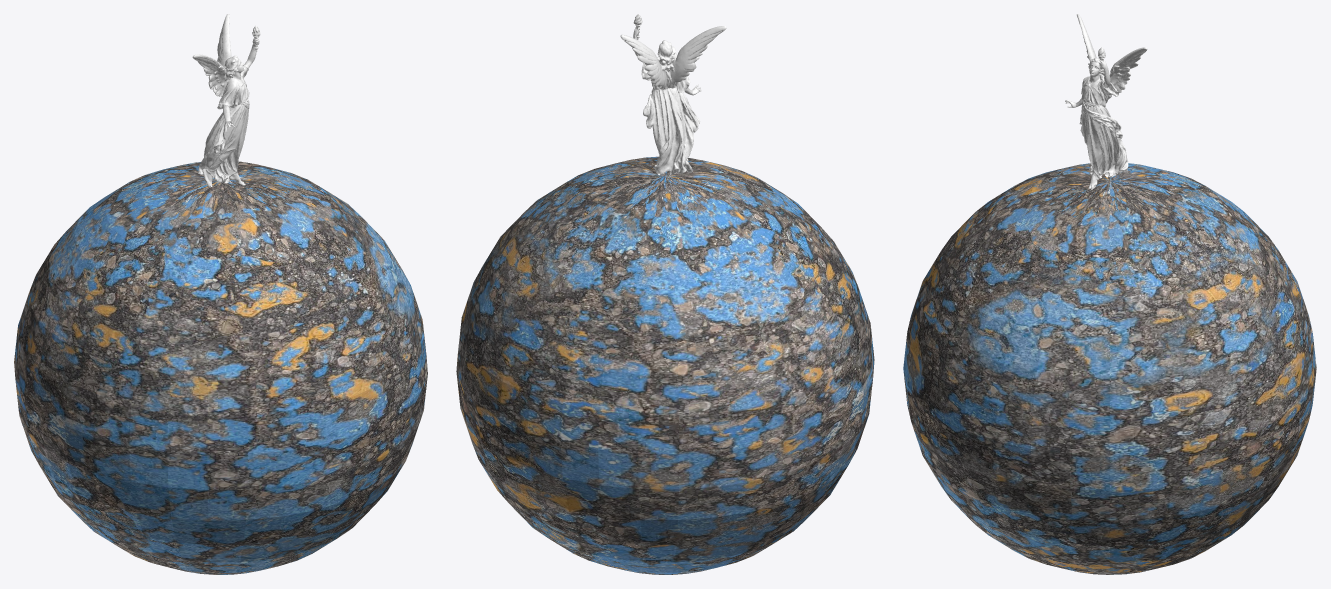
Rendered from lucy_and_earth.glb.
3 views of the same model, side by side, from view 1: azimuth 30°, elevation 25°; view 2: azimuth 150°, elevation 25°; view 3: azimuth 270°, elevation 25° (orthographic).
Parts seen in each view (by area): view 1: Sphere, Mesh_0.002; view 2: Sphere, Mesh_0.002; view 3: Sphere, Mesh_0.002.
Part boxes in pixels (x1,y1,x2,y2): Sphere: [14, 161, 427, 574]; Mesh_0.002: [192, 14, 260, 187]; Sphere: [456, 156, 874, 574]; Mesh_0.002: [620, 14, 726, 175]; Sphere: [903, 163, 1316, 574]; Mesh_0.002: [1065, 14, 1147, 189].
Bounding box in the file's own units: 3 × 4.19 × 3.
2 materials, 1 textured.
